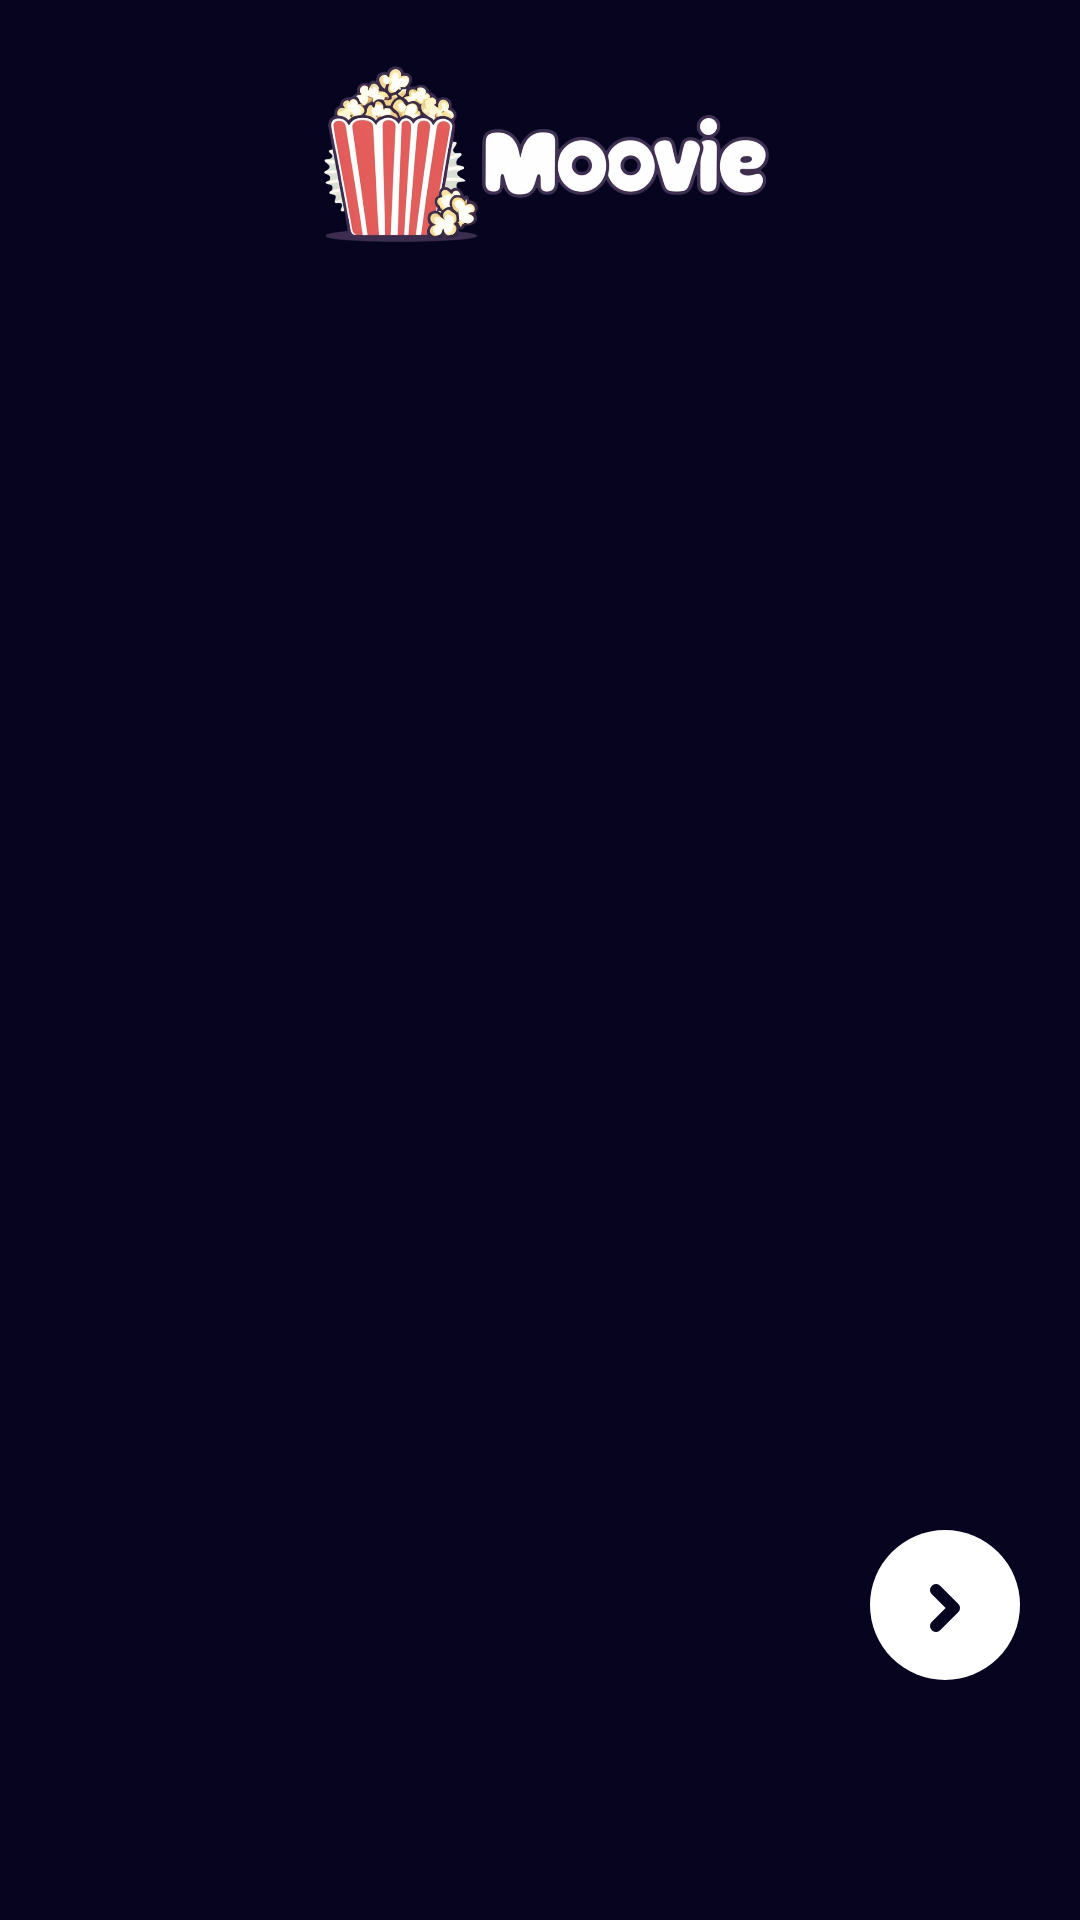

Named icons in this screenshot (1080px×1920px) and their bounding boxes, {"left": x1, "top": y1, "right": x2, "bottom": y2}:
next: {"left": 870, "top": 1530, "right": 1020, "bottom": 1680}
